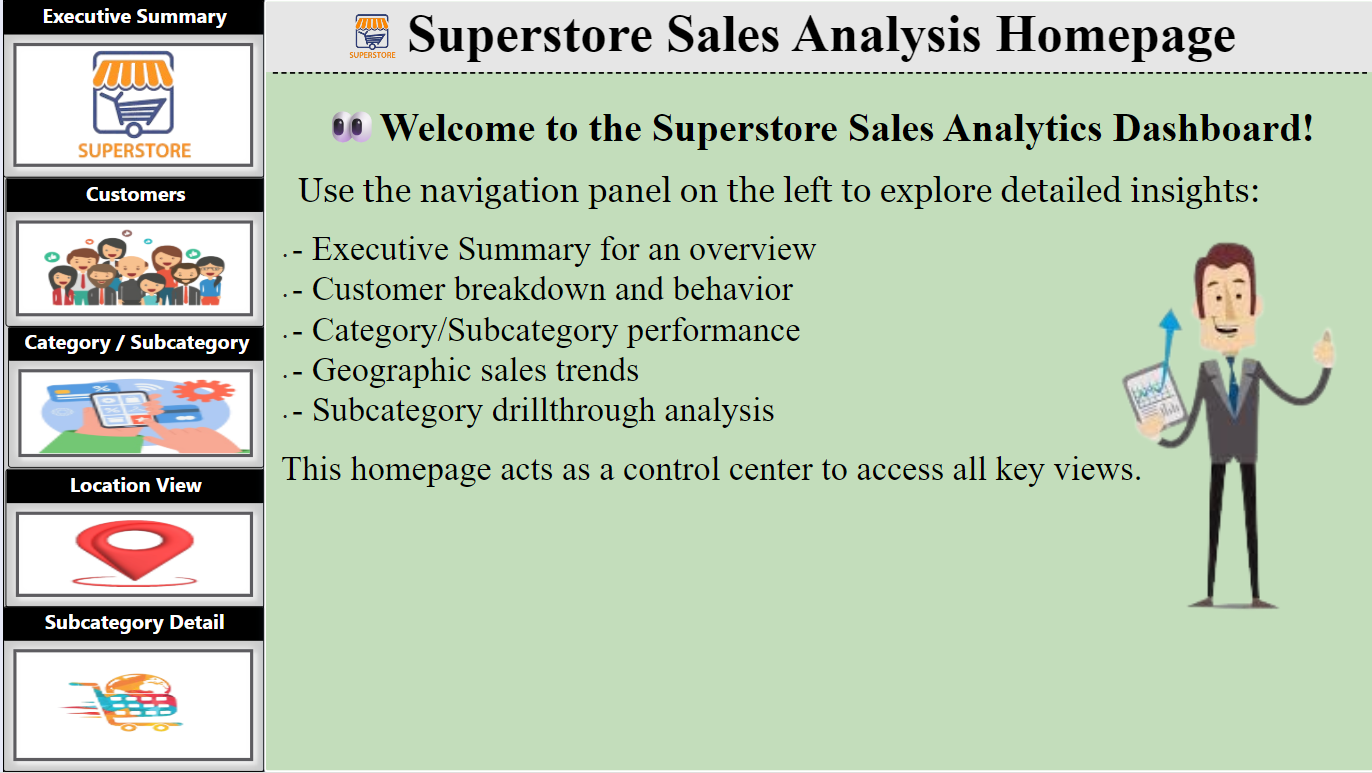

Layout of this report page (visuals, bound fields, positions):
{"tool":"powerbi","page":{"name":"Home Page","canvas":[1280,720],"ordinal":0},"visuals":[{"type":"shape","box":[0,0,286,775.2],"z":0},{"type":"textbox","title":"Superstore Sales Analysis Homepage","box":[207.8,43.9,1020,297.3],"z":1000},{"type":"pageNavigator","box":[23.3,43.9,223.9,351],"z":2000},{"type":"image","box":[23.3,402.1,206,305.4],"z":3000},{"type":"image","box":[568.7,249.9,244.5,182.7],"z":4000}]}

Visuals, with their boxes in screenshot pixels (x1, y1, x2, y2), scaled from the page's 1280x720 canvas onto the 1372x773 screenshot:
shape: {"x1": 0, "y1": 0, "x2": 307, "y2": 772}
"Superstore Sales Analysis Homepage" textbox: {"x1": 223, "y1": 47, "x2": 1316, "y2": 366}
pageNavigator: {"x1": 25, "y1": 47, "x2": 265, "y2": 424}
image: {"x1": 25, "y1": 432, "x2": 246, "y2": 760}
image: {"x1": 610, "y1": 268, "x2": 872, "y2": 464}
